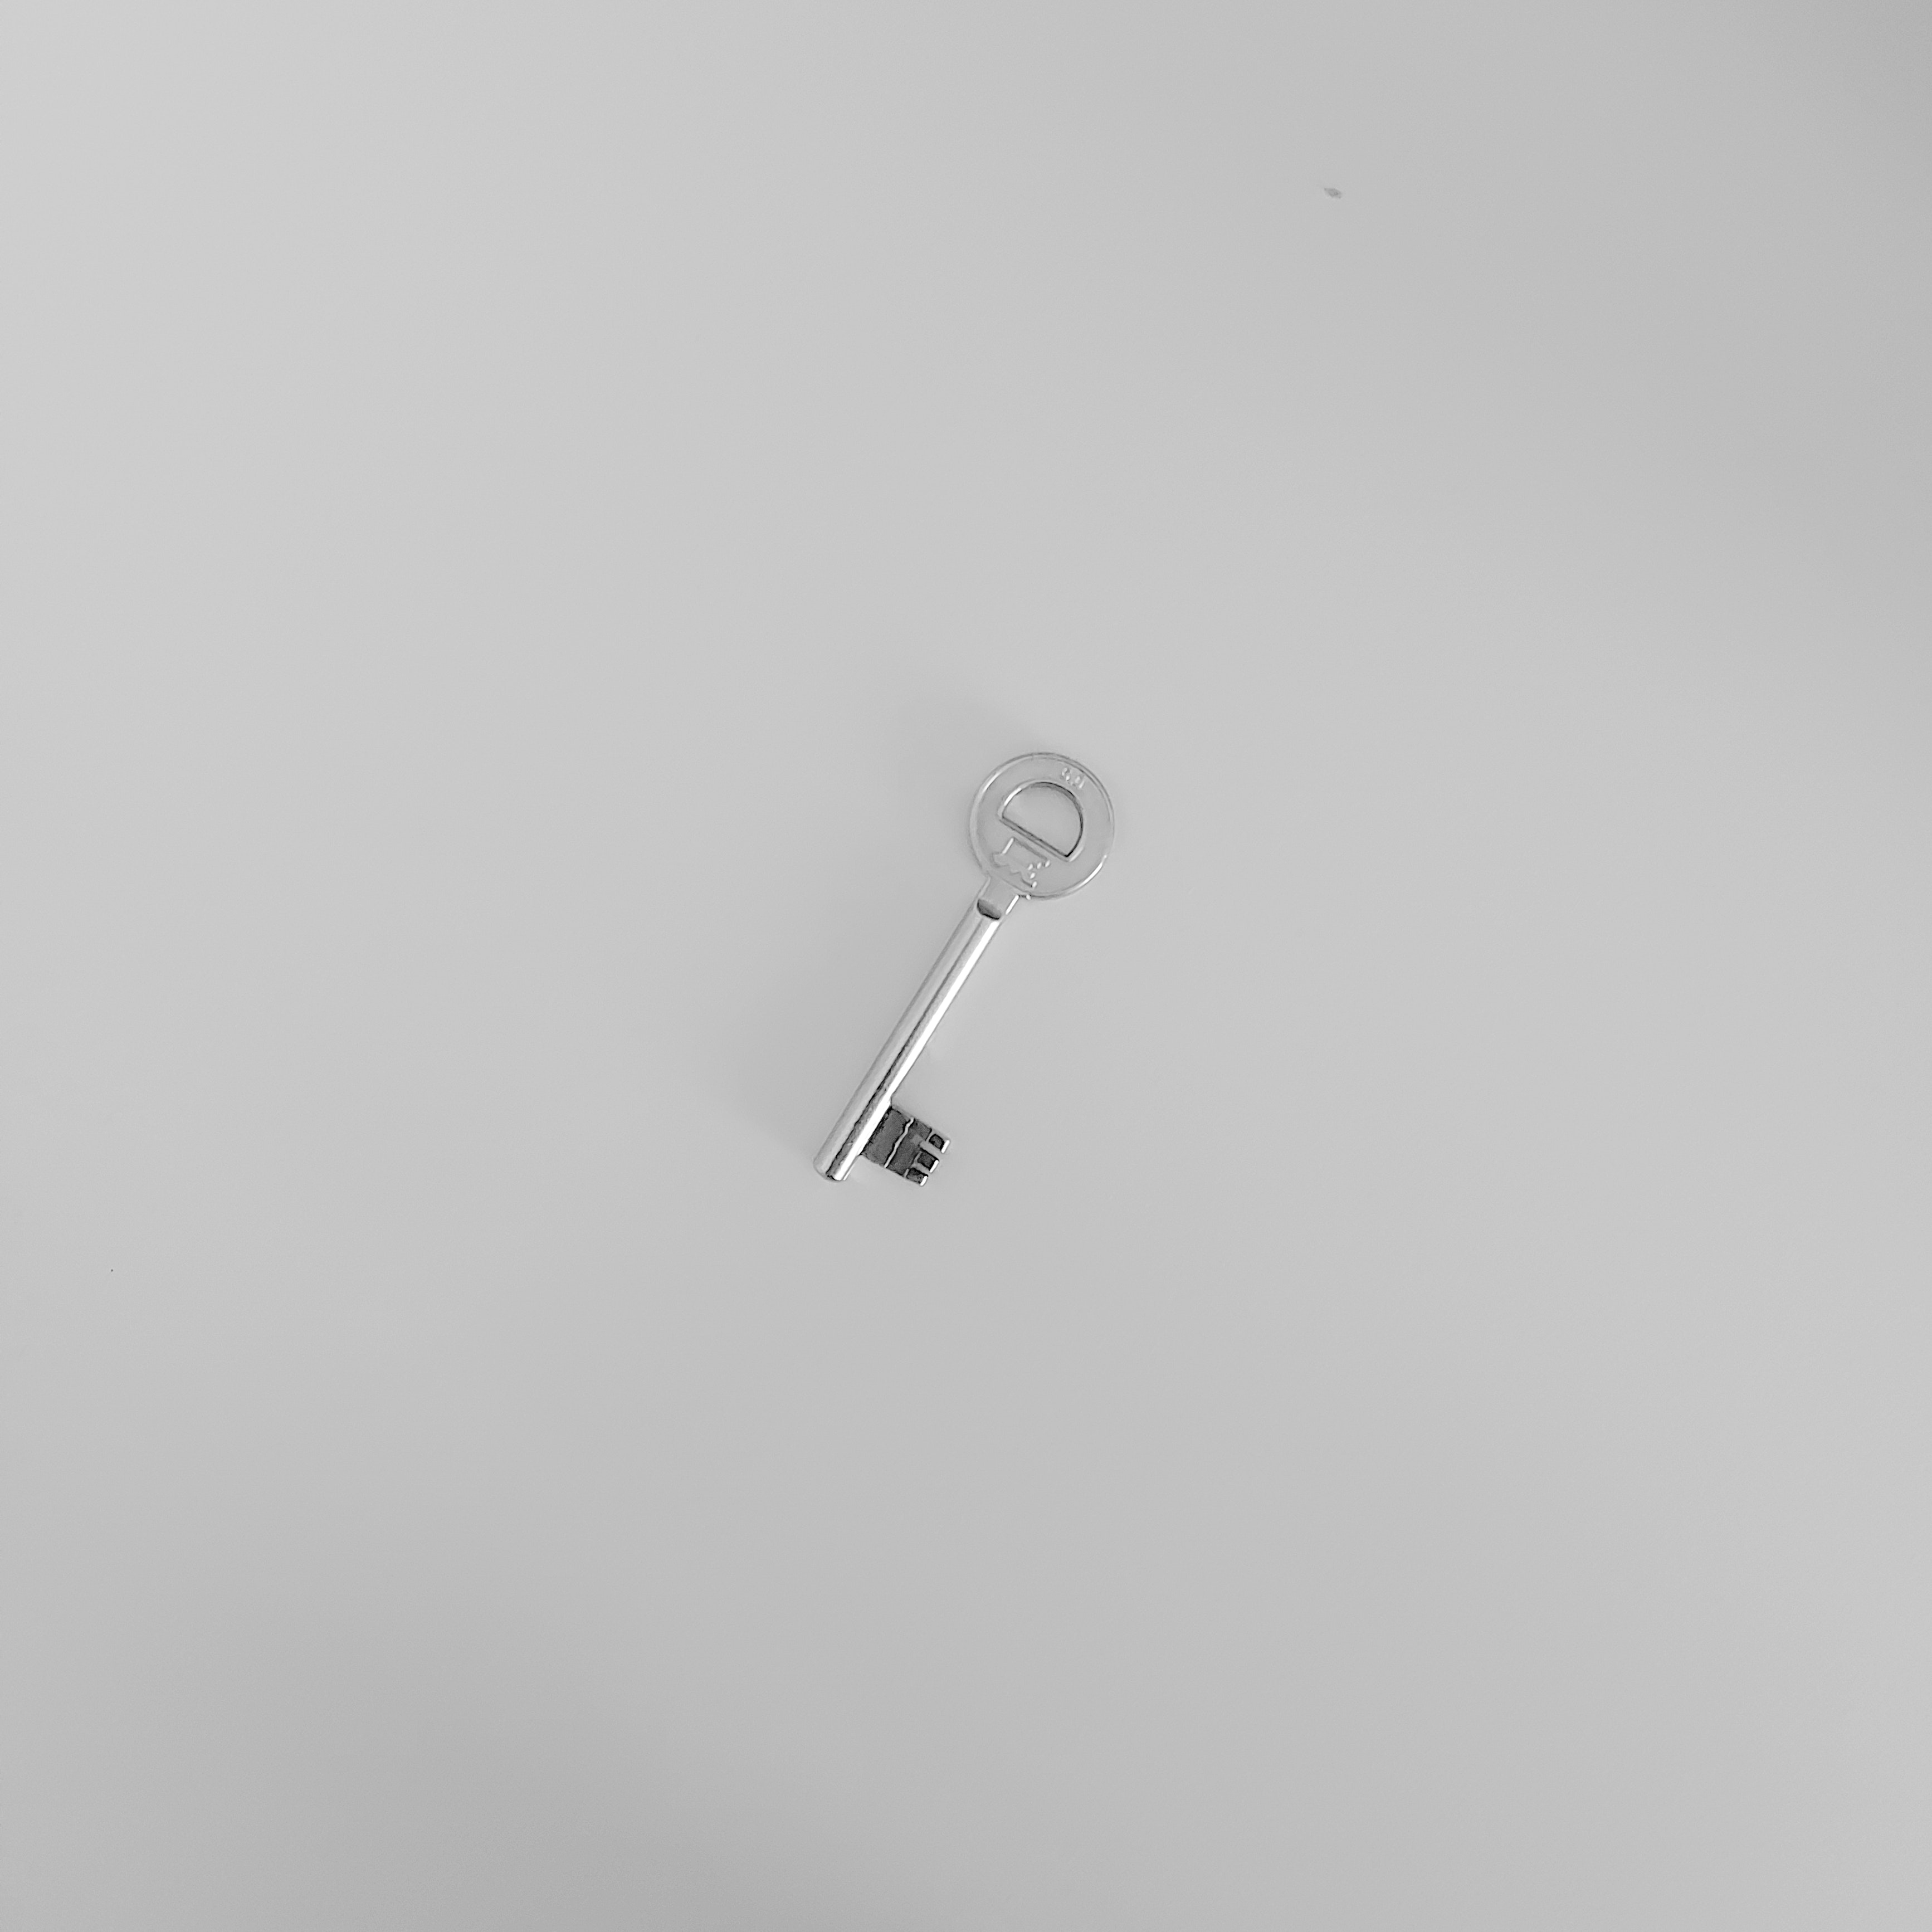key: (748, 704, 1145, 1240)
